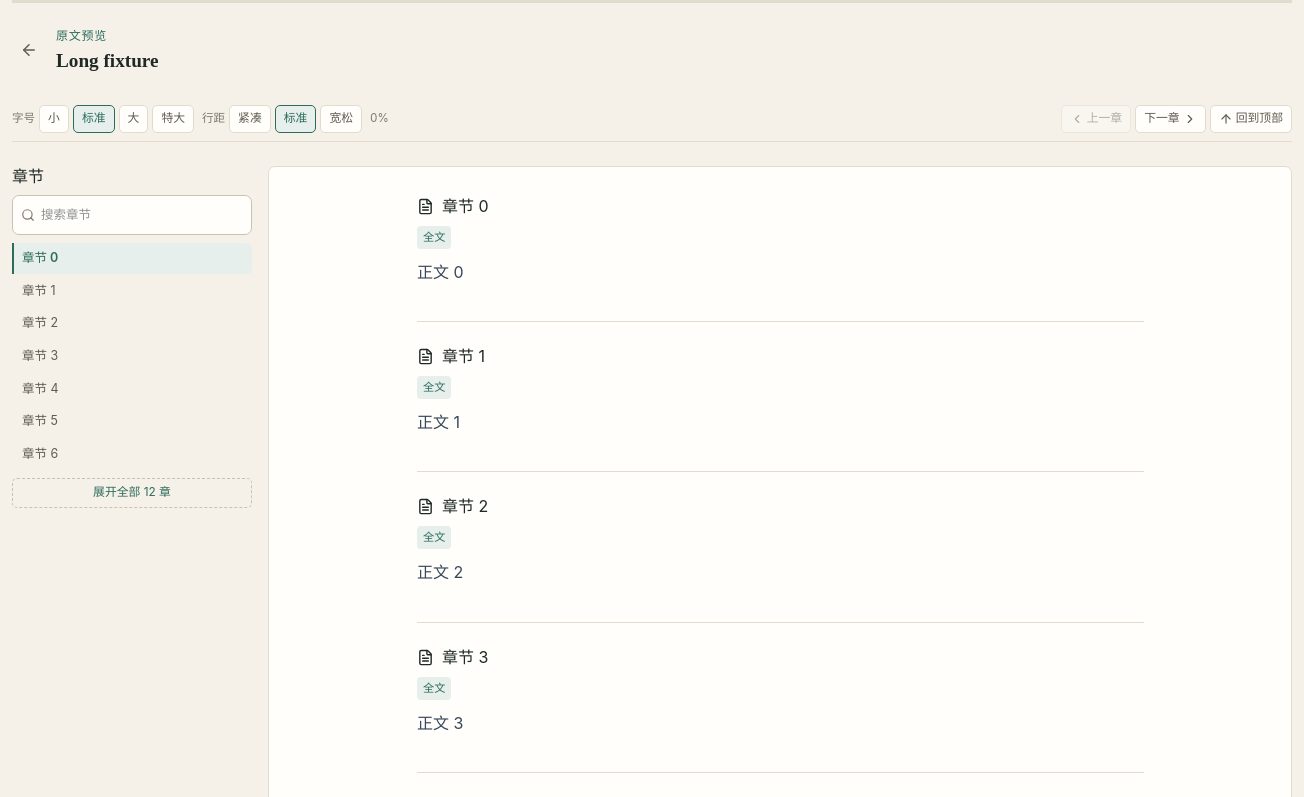
Test case: DocumentPreviewPage reading interactions › filters the outline by keyword and reports an empty result
Expected: the heading "章节 0" is shown, [442, 196, 488, 217]
Step 1. Type "章节 1" into the search field labelled "搜索章节" → (132, 215), box [12, 195, 252, 235]
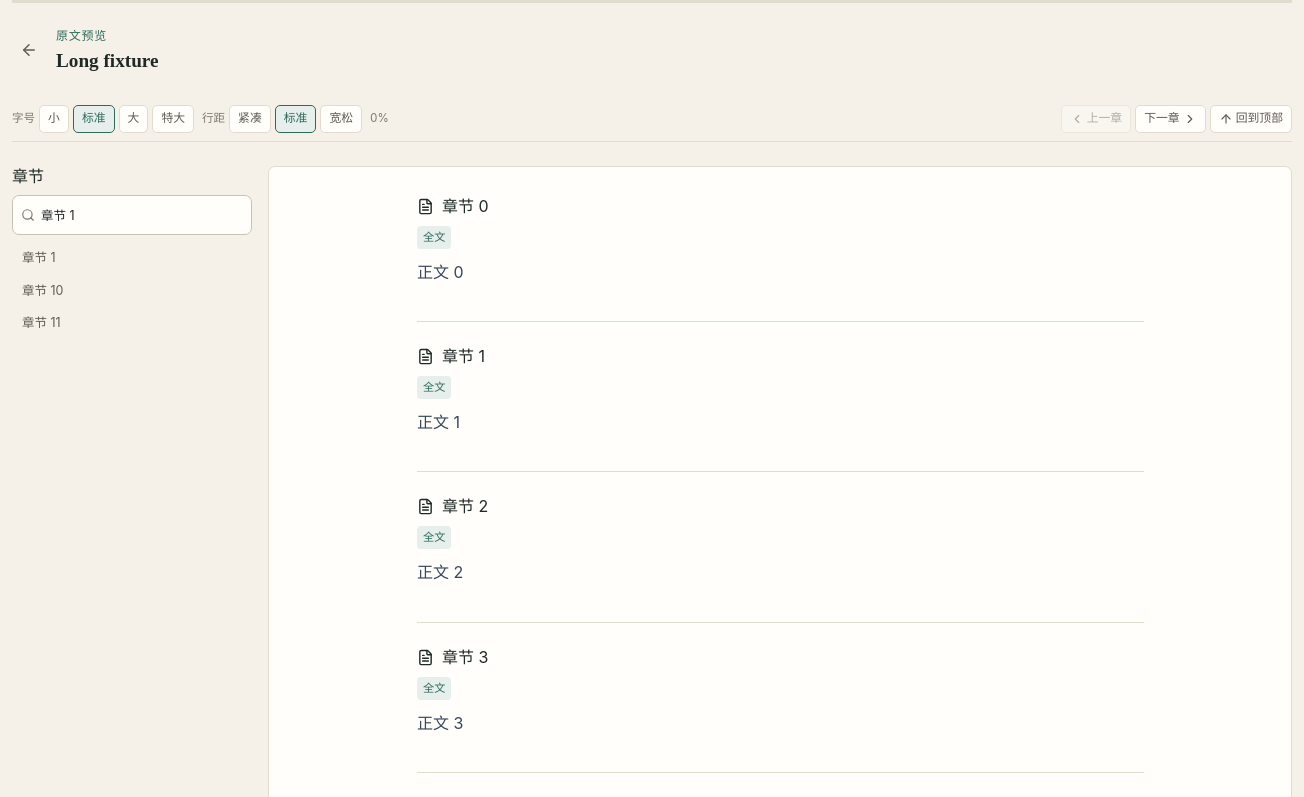
Expected: the link "章节 1" is shown, [22, 250, 56, 265]
Expected: the link "章节 10" is shown, [22, 282, 63, 298]
Step 2. Replace the text in the search field named "搜索章节" with "不存在的章节" → (132, 215), box [12, 195, 252, 235]
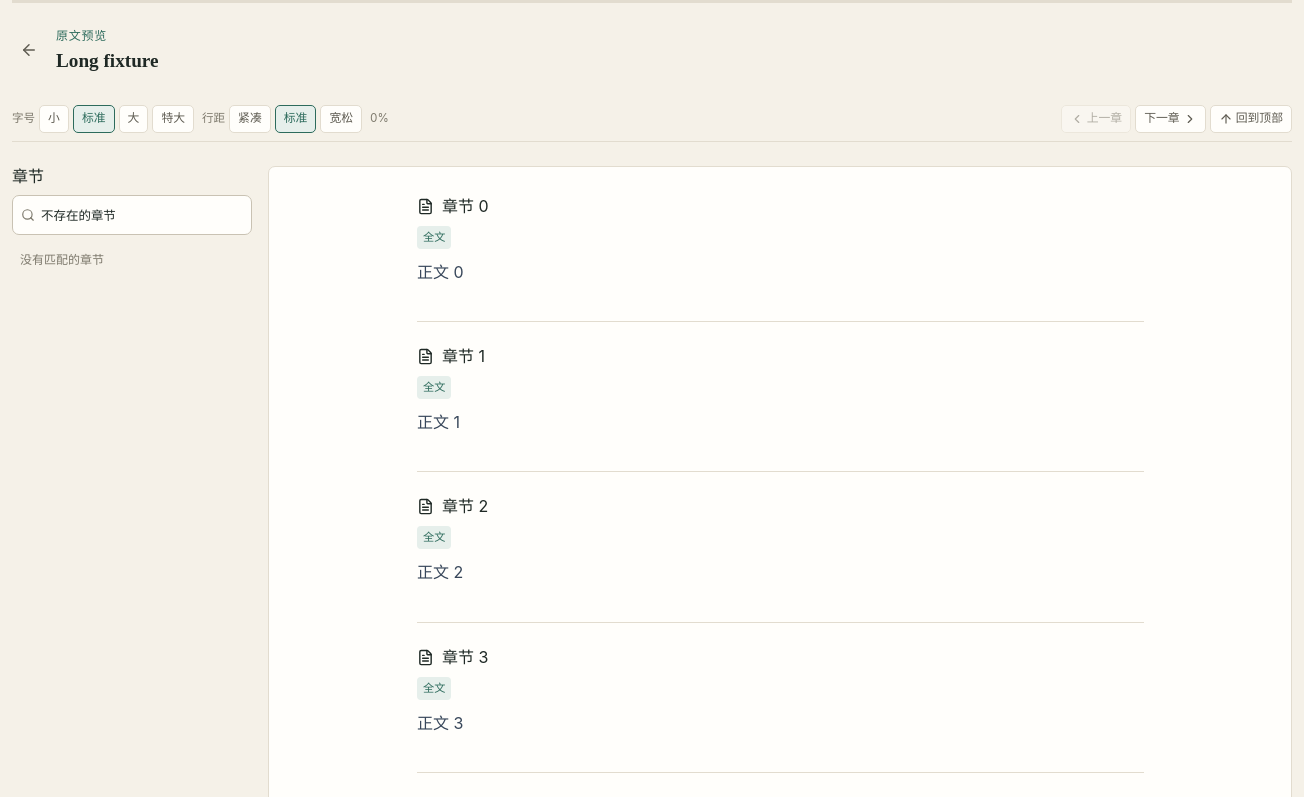
Expected: the list item "没有匹配的章节" is shown, [20, 252, 104, 267]
